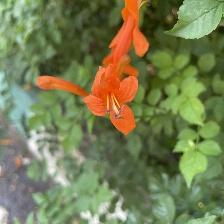honeysuckle: (88, 58, 144, 136)
